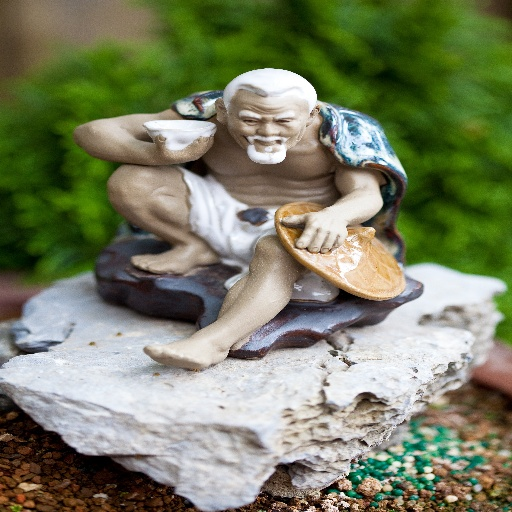hand: (287, 199, 360, 251), (145, 130, 216, 168)
